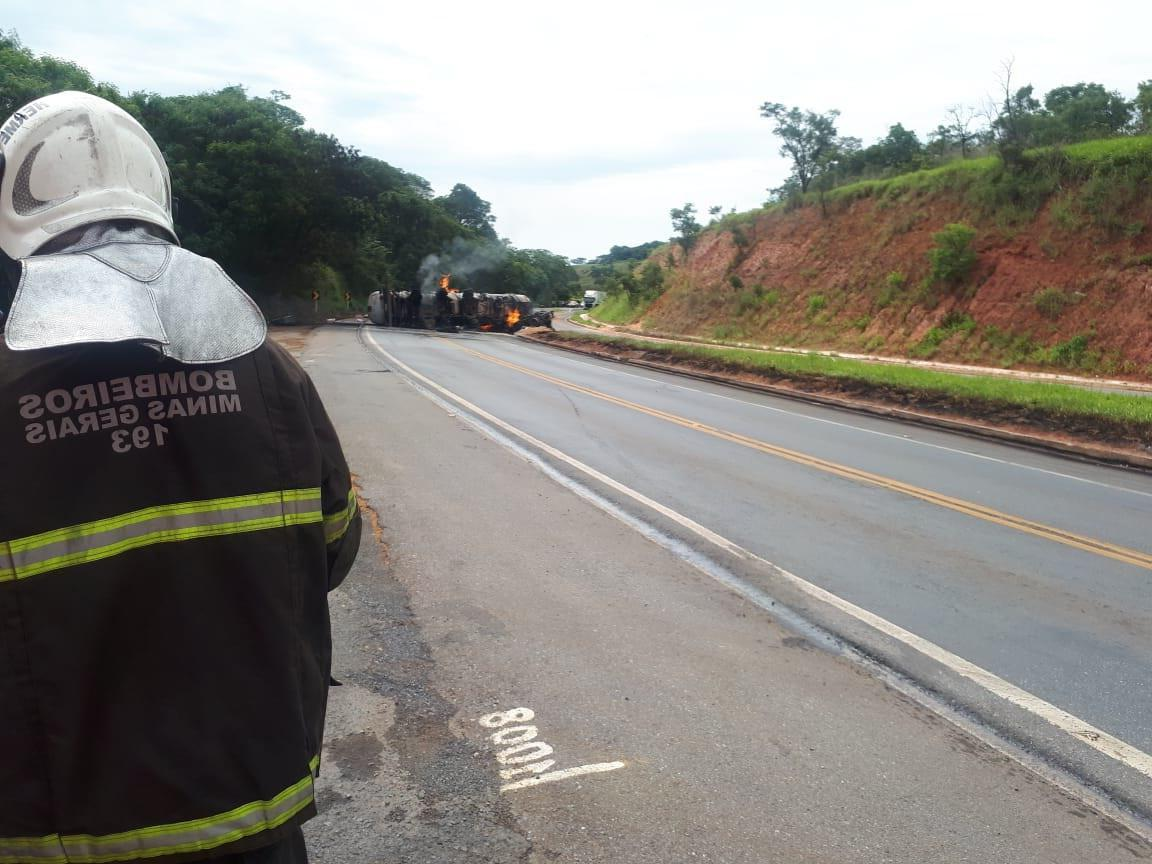Fire: (505, 308, 526, 331), (440, 274, 453, 289)
